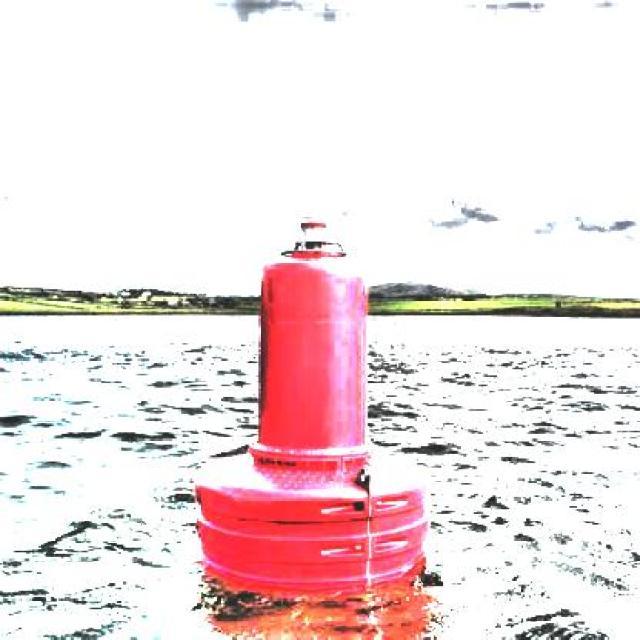Red Buoy: (200, 263, 420, 591)
